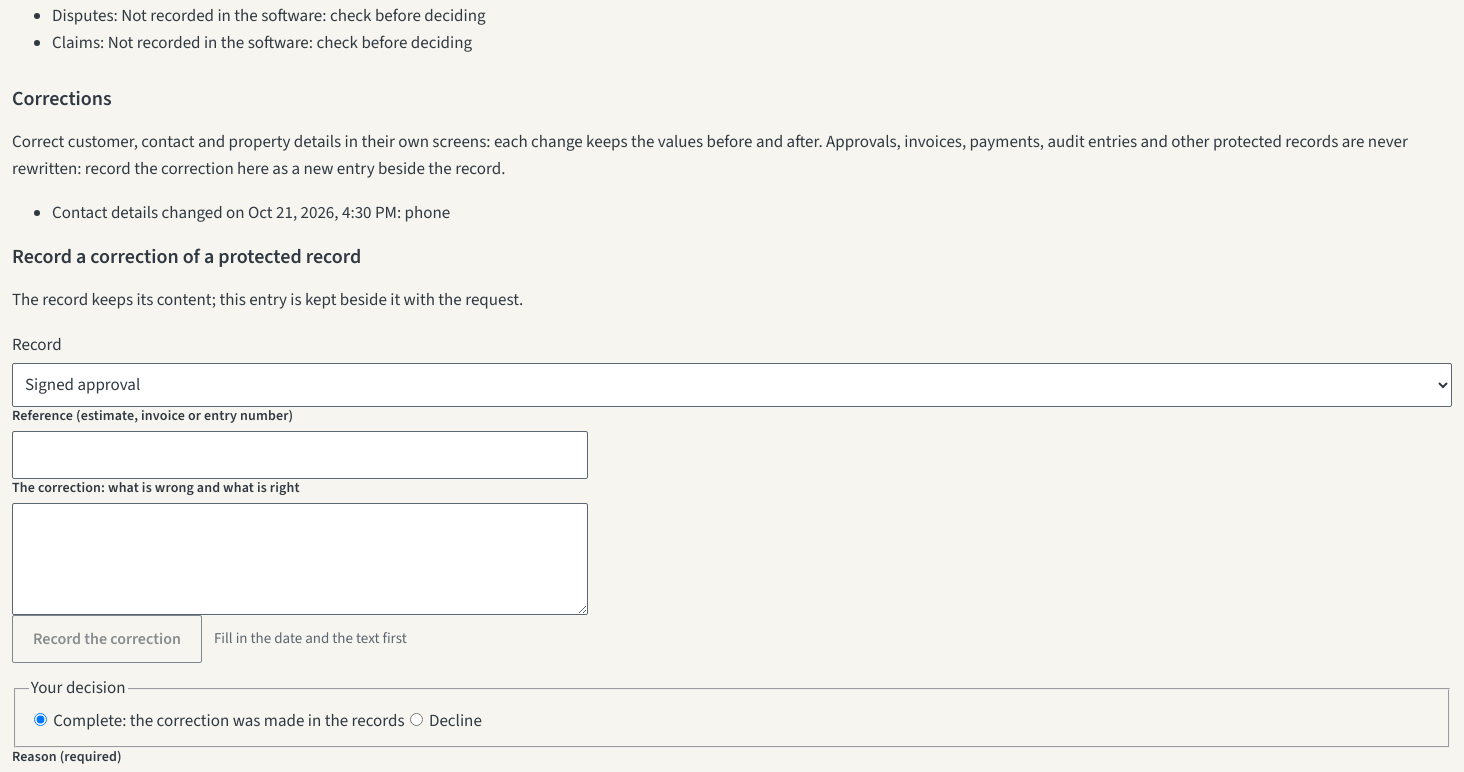
Scenario: privacy requests screen (TSK-0100, HH-PRIV-03) › [HH-PRIV-03][OWN-DEC-201] a correction shows its history; a protected record is corrected by a new entry
(page scrolled)
Expected: the list item "Contact details changed on Oct 21, 2026, 4:30 PM: phone" is shown, [52,201,450,225]
Select "Invoice" in the dropdown labelled "Record": x=732, y=385 [12,363,1452,407]
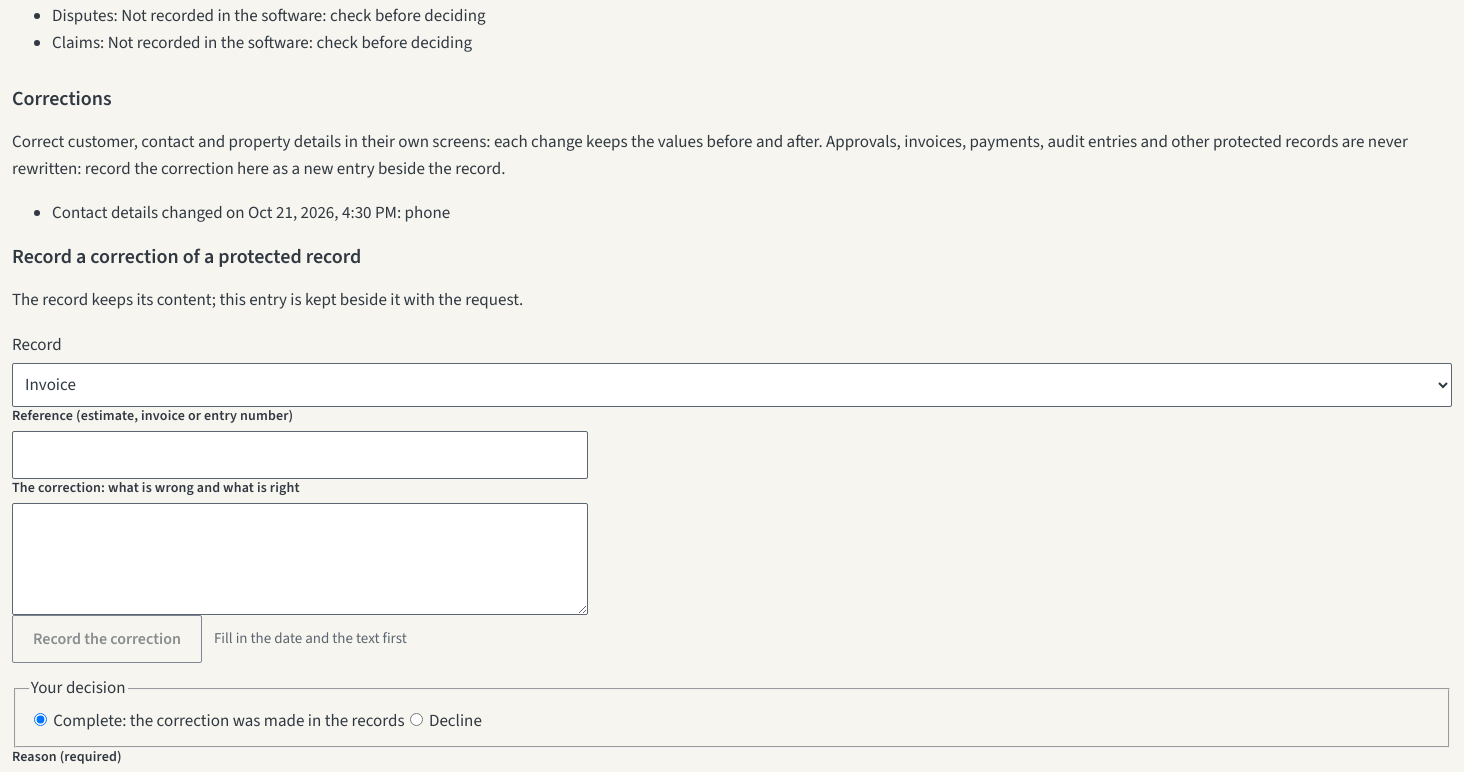
In the field labelled "Reference (estimate, invoice or entry number)": x=300, y=455 [12,431,588,479], type "INV-SYNTH-1"
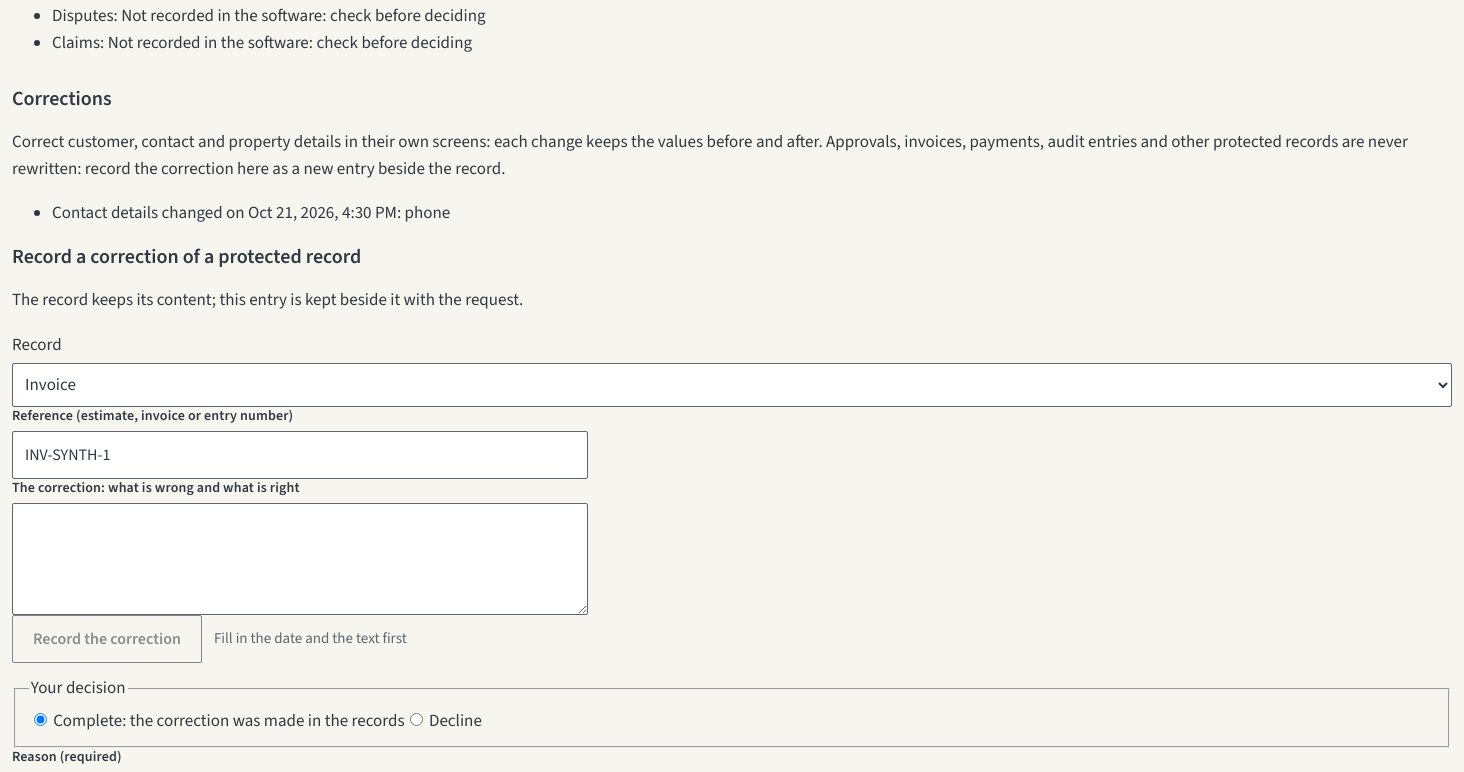
In the text box labelled "The correction: what is wrong and what is right": x=300, y=559 [12,503,588,615], type "Synthetic: the phone on the issued invoice is outdated."
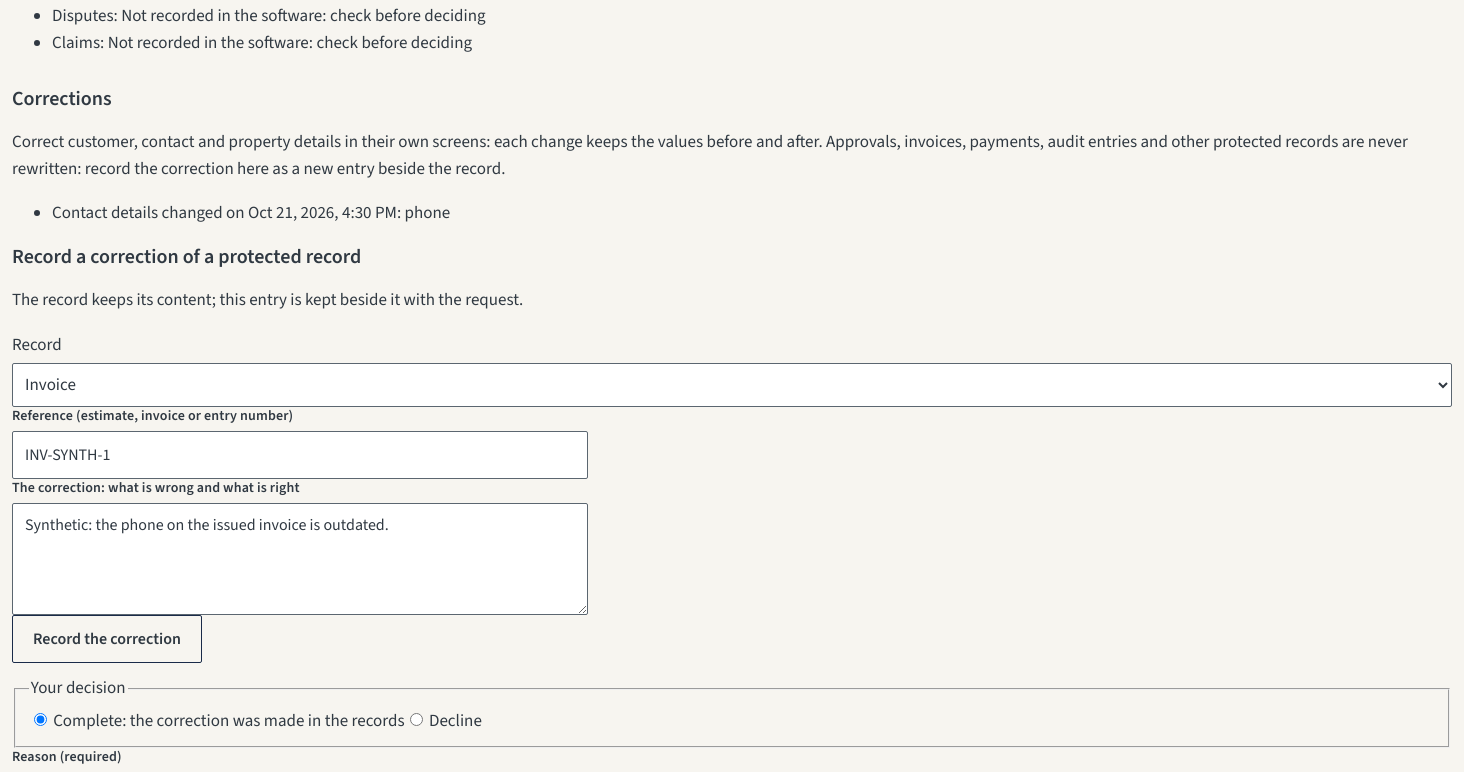
Click the button "Record the correction": x=107, y=639 [12,615,202,663]
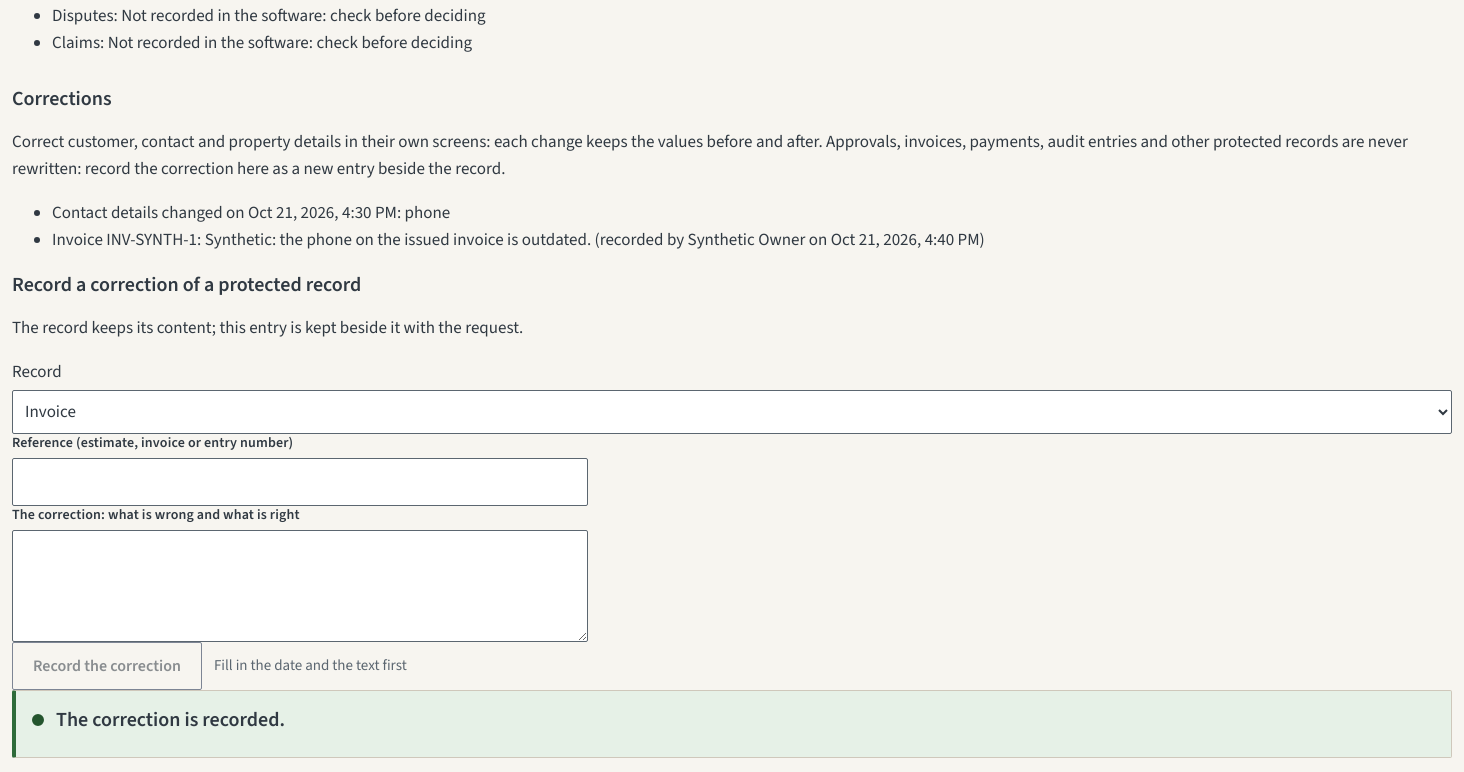
Expected: the list item "Invoice INV-SYNTH-1: Synthetic: the phone" is shown, [52,228,985,252]
